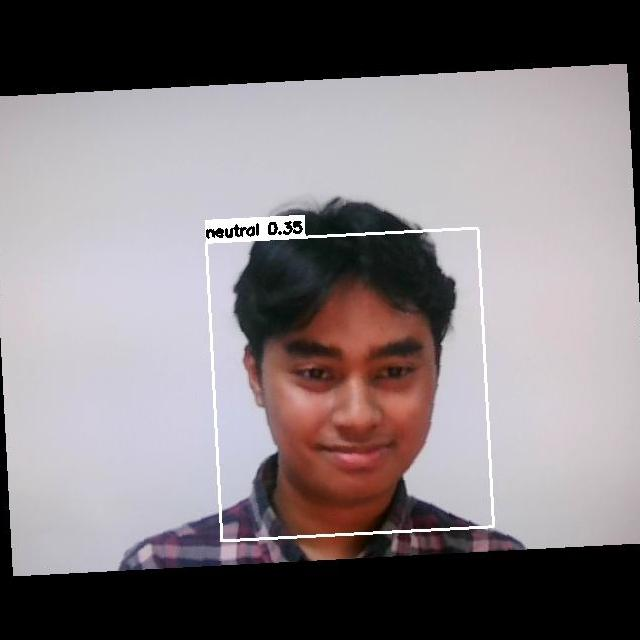Happy: (261, 315, 449, 493)
